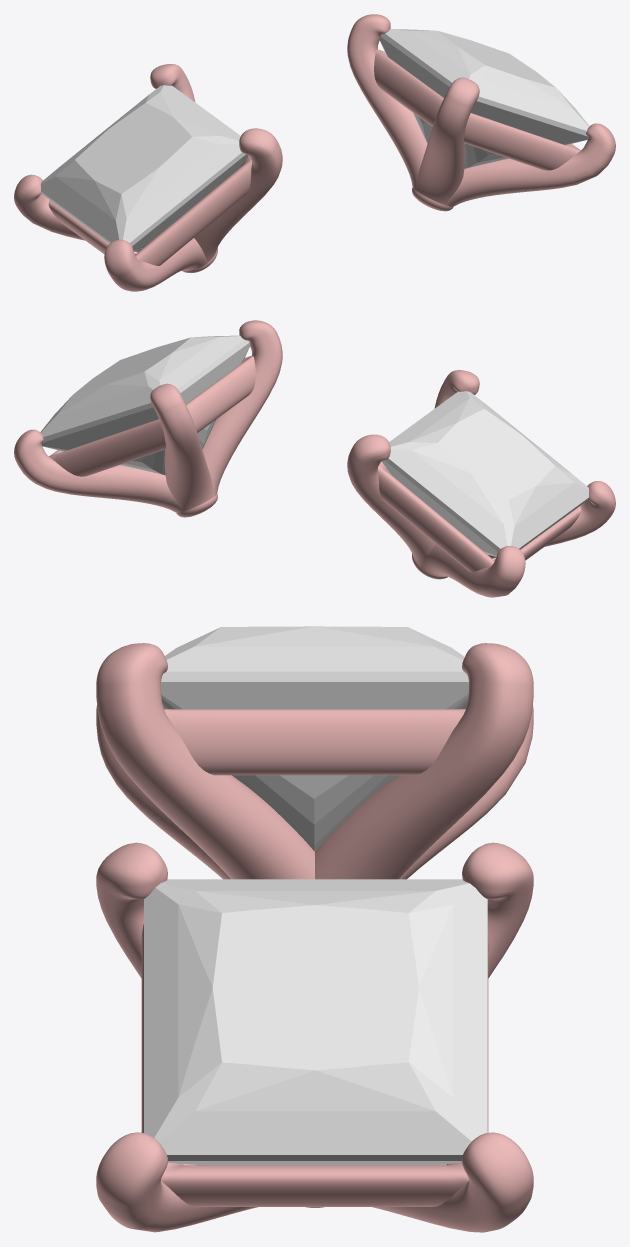
Rendered from Princess-SideStones.glb.
The picture shows the model from 3 angles, top to bottom: view 1: azimuth 30°, elevation 25°; view 2: azimuth 150°, elevation 25°; view 3: azimuth 270°, elevation 25°; orthographic projection. The views are drawn at different scales.
Visible parts, largest first — view 1: all-diamonds.929; view 2: all-diamonds.929; view 3: all-diamonds.929.
Part boxes in pixels (left/top/right/bottom): all-diamonds.929: left=14, top=14, right=615, bottom=291; all-diamonds.929: left=14, top=320, right=615, bottom=597; all-diamonds.929: left=96, top=626, right=533, bottom=1232.
Size of the model in its own units: 12.05 by 3.77 by 4.49.
